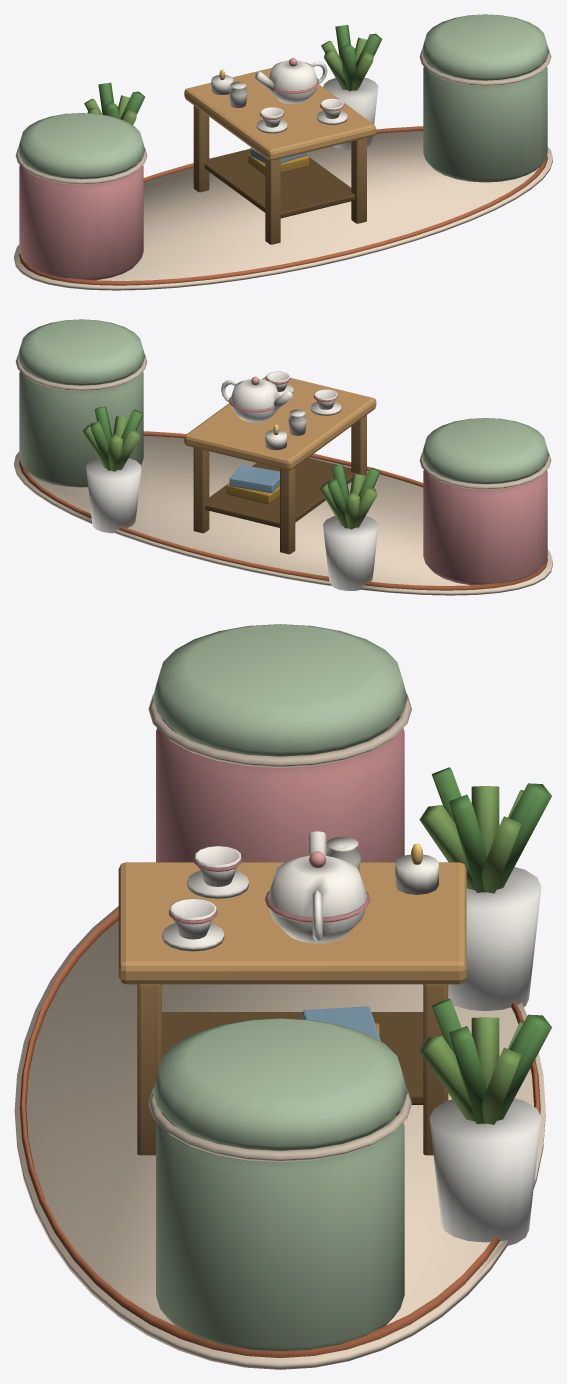
Rendered from welcomeTeaTable.glb.
3 views of the same model, one above another, from view 1: azimuth 30°, elevation 25°; view 2: azimuth 150°, elevation 25°; view 3: azimuth 270°, elevation 25° (orthographic). The views are drawn at different scales.
Parts seen in each view (by area): view 1: body, teapot; view 2: body, teapot; view 3: body, teapot.
Part boxes in pixels (box(x1,y1,x2,y2)): body: box(14, 14, 552, 290); teapot: box(254, 58, 327, 103); body: box(14, 319, 552, 595); teapot: box(221, 376, 293, 422); body: box(14, 624, 551, 1369); teapot: box(264, 831, 370, 943).
Size of the model in its own units: 1.94 by 0.499 by 0.864.
